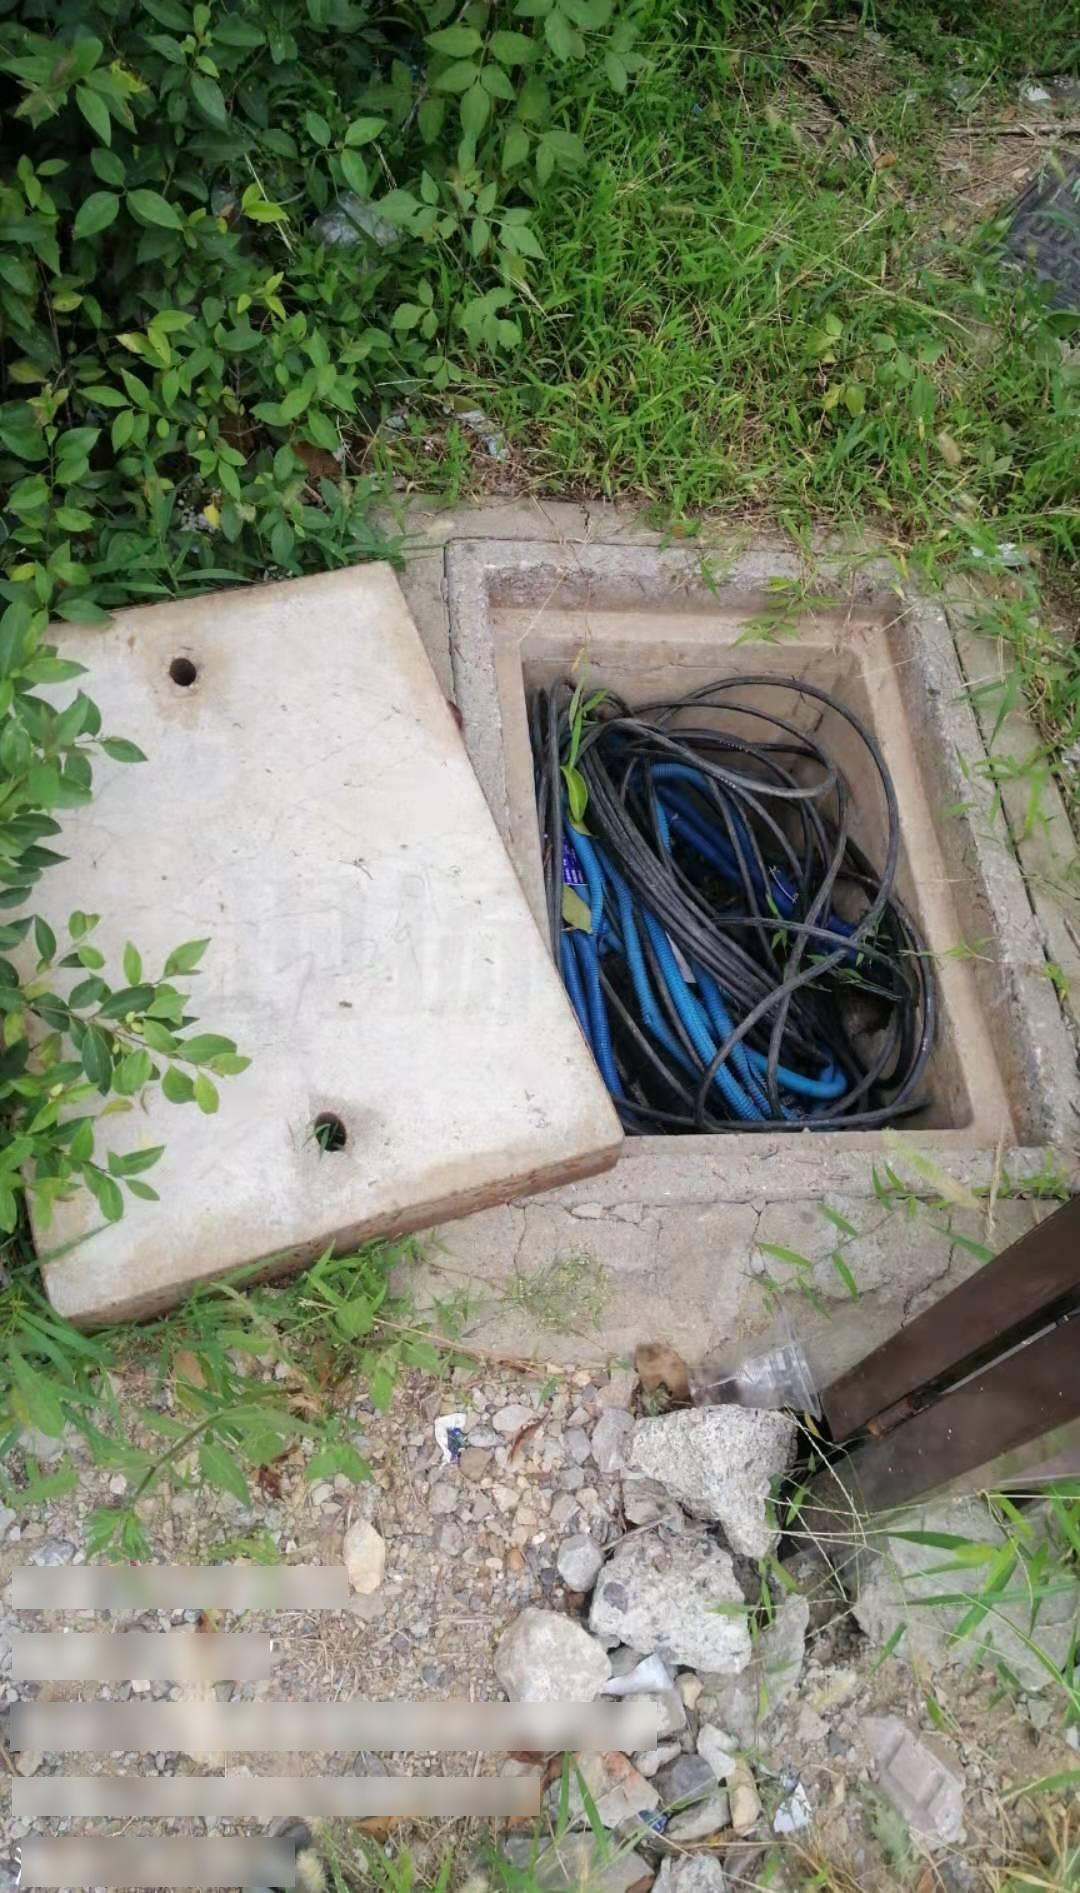wellcover: (31, 491, 1080, 1322)
